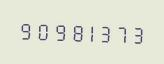eight: (65, 19, 80, 43)
nine: (17, 17, 32, 42), (49, 18, 64, 43)
one: (81, 19, 96, 44)
seven: (113, 21, 128, 45)
three: (97, 20, 112, 45), (129, 21, 144, 46)
zero: (33, 18, 48, 42)
